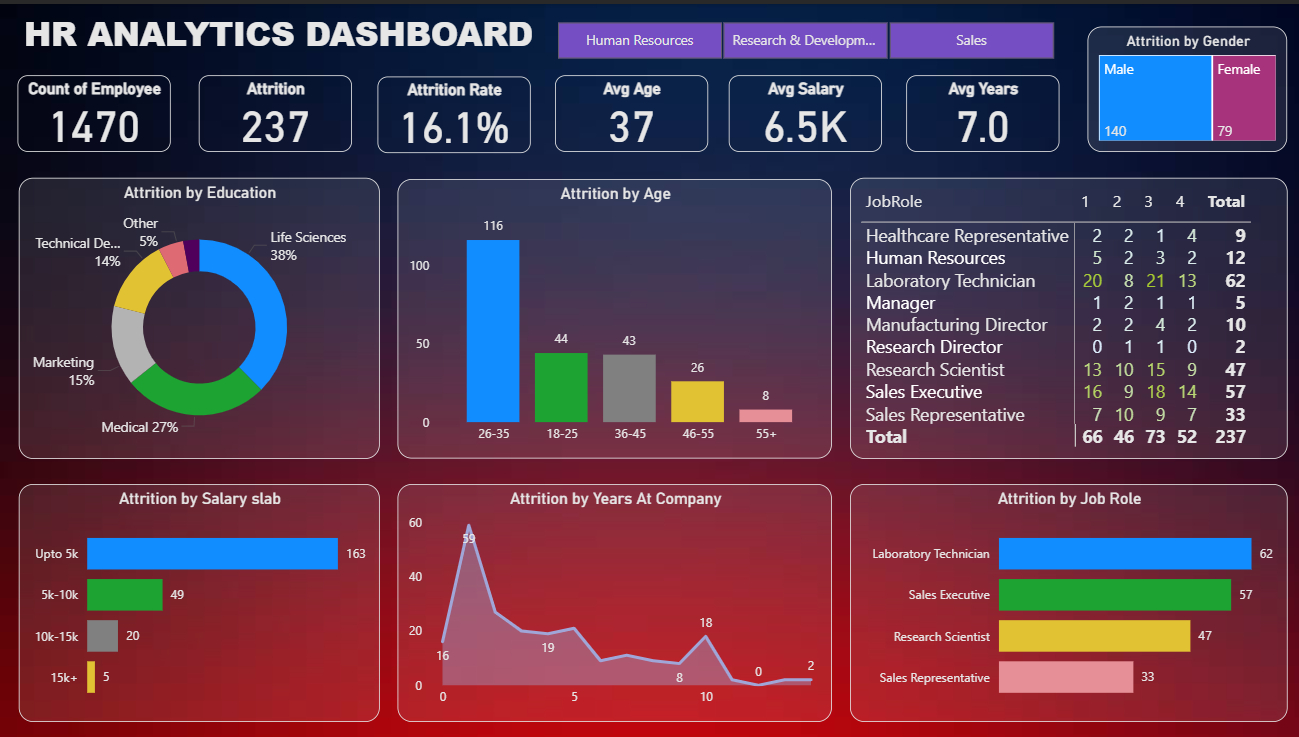

The dashboard page shown, as its layout file describes it:
{"tool":"powerbi","page":{"name":"Page 1","canvas":[1280,720],"ordinal":0},"visuals":[{"type":"card","title":"Count of Employee","fields":{"Values":["CountNonNull(HR_Analytics.EmpID)"]},"box":[17.3,70.5,150,75],"z":0},{"type":"card","title":"Attrition ","fields":{"Values":["Sum(HR_Analytics.AttritionCount)"]},"box":[194.9,70,150,75],"z":1000},{"type":"card","title":"Attrition Rate","fields":{"Values":["HR_Analytics.AttritionRate"]},"box":[370.5,71.4,150,75],"z":2000},{"type":"card","title":"Avg Age","fields":{"Values":["Avg(HR_Analytics.Age)"]},"box":[544.8,70,150,75],"z":3000},{"type":"card","title":"Avg Salary","fields":{"Values":["Avg(HR_Analytics.MonthlyIncome)"]},"box":[714.9,70,150,75],"z":4000},{"type":"card","title":"Avg Years","fields":{"Values":["Avg(HR_Analytics.YearsAtCompany)"]},"box":[889.2,70,150,75],"z":5000},{"type":"donutChart","title":"Attrition by Education","fields":{"Category":["HR_Analytics.EducationField"],"Y":["Sum(HR_Analytics.AttritionCount)"]},"box":[17.8,170.2,354,275.8],"z":6000},{"type":"columnChart","title":"Attrition by Age","fields":{"Category":["HR_Analytics.AgeGroup"],"Y":["Sum(HR_Analytics.AttritionCount)"]},"box":[389.7,171.5,426.8,274.4],"z":7000},{"type":"pivotTable","fields":{"Rows":["HR_Analytics.JobRole"],"Columns":["HR_Analytics.JobSatisfaction"],"Values":["Sum(HR_Analytics.AttritionCount)"]},"box":[834.3,170.2,429.5,275.8],"z":8000},{"type":"barChart","title":"Attrition by Salary slab","fields":{"Category":["HR_Analytics.SalarySlab"],"Y":["Sum(HR_Analytics.AttritionCount)"]},"box":[17.8,470.7,354,233.3],"z":9000},{"type":"barChart","title":"Attrition by Job Role","fields":{"Category":["HR_Analytics.JobRole"],"Y":["Sum(HR_Analytics.AttritionCount)"]},"box":[834.3,470.7,429.5,233.3],"z":10000},{"type":"areaChart","title":"Attrition by Years At Company","fields":{"Category":["HR_Analytics.YearsAtCompany"],"Y":["Sum(HR_Analytics.AttritionCount)"]},"box":[389.7,470.7,426.8,233.3],"z":11000},{"type":"treemap","title":"Attrition by Gender","fields":{"Group":["HR_Analytics.Gender"],"Values":["Sum(HR_Analytics.AttritionCount)"]},"box":[1067.6,22,196.2,123.5],"z":12000},{"type":"slicer","fields":{"Values":["HR_Analytics.Department"]},"box":[521.4,11,536.5,49.4],"z":13000},{"type":"textbox","box":[17.8,1.4,542,59],"z":14000}]}

Visuals, with their boxes in screenshot pixels (x1, y1, x2, y2), scaled from the page's 1280x720 canvas onto the 1299x737 screenshot:
"Count of Employee" card: locate(18, 72, 170, 149)
"Attrition " card: locate(198, 72, 350, 148)
"Attrition Rate" card: locate(376, 73, 528, 150)
"Avg Age" card: locate(553, 72, 705, 148)
"Avg Salary" card: locate(726, 72, 878, 148)
"Avg Years" card: locate(902, 72, 1055, 148)
"Attrition by Education" donutChart: locate(18, 174, 377, 457)
"Attrition by Age" columnChart: locate(395, 176, 829, 456)
pivotTable - HR_Analytics.JobRole x HR_Analytics.JobSatisfaction: locate(847, 174, 1283, 457)
"Attrition by Salary slab" barChart: locate(18, 482, 377, 721)
"Attrition by Job Role" barChart: locate(847, 482, 1283, 721)
"Attrition by Years At Company" areaChart: locate(395, 482, 829, 721)
"Attrition by Gender" treemap: locate(1083, 23, 1283, 149)
slicer - HR_Analytics.Department: locate(529, 11, 1074, 62)
textbox: locate(18, 1, 568, 62)
